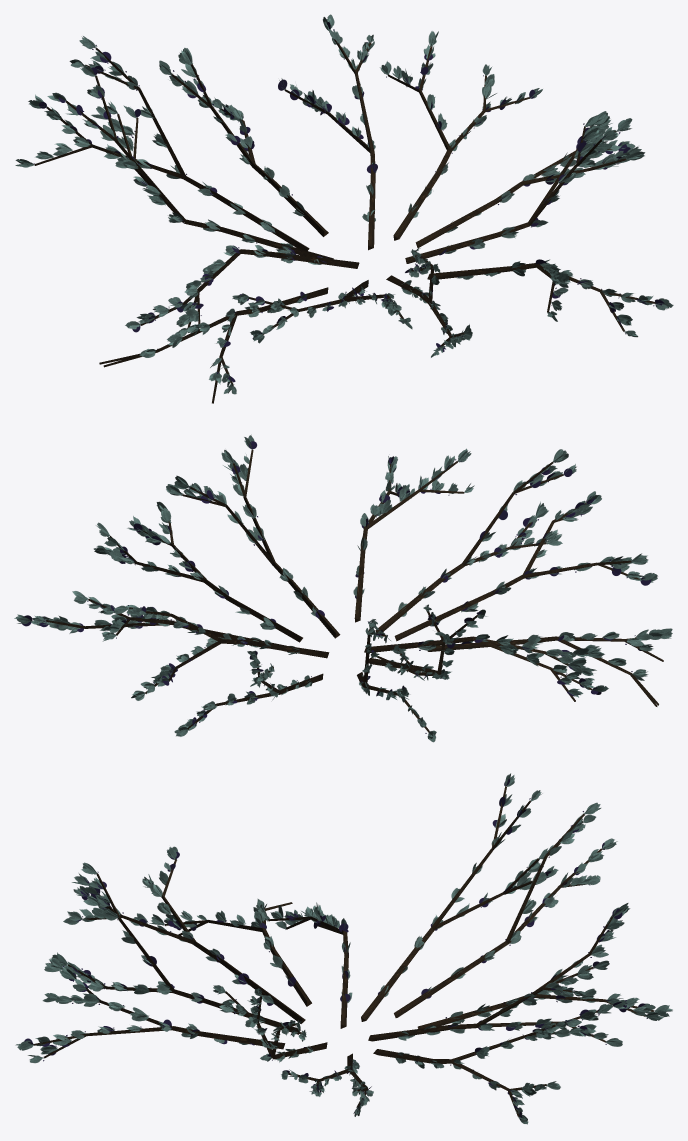
The model's file is bilberry_low_v02_LOD1.glb.
3 views of the same model, one above another, from view 1: azimuth 30°, elevation 25°; view 2: azimuth 150°, elevation 25°; view 3: azimuth 270°, elevation 25° (orthographic). The views are drawn at different scales.
Parts seen in each view (by area): view 1: bilberry_low_v02_LOD1; view 2: bilberry_low_v02_LOD1; view 3: bilberry_low_v02_LOD1.
Part boxes in pixels (x1,y1,x2,y2): bilberry_low_v02_LOD1: [15, 14, 673, 403]; bilberry_low_v02_LOD1: [14, 434, 672, 742]; bilberry_low_v02_LOD1: [15, 773, 672, 1124].
Bounding box in the file's own units: 1.13 × 0.3521 × 1.19.
Materials: 2 (2 with a texture image).
